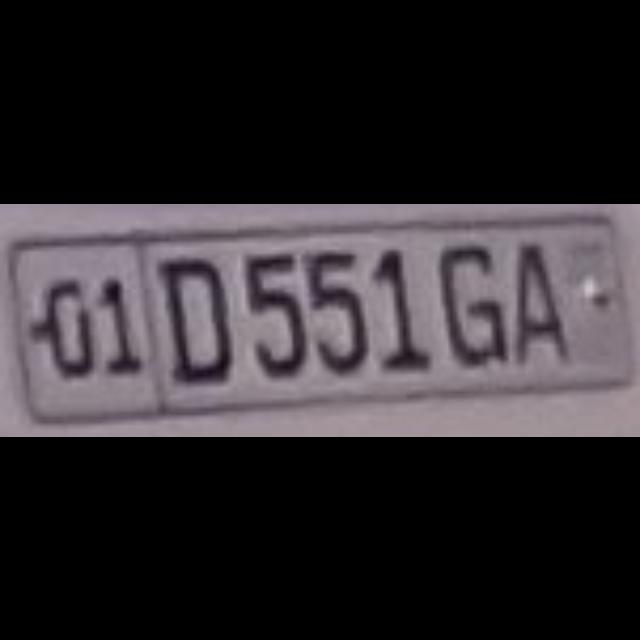0: (42, 276, 90, 372)
1: (368, 242, 419, 364), (98, 276, 136, 368)
5: (242, 245, 296, 372), (306, 246, 360, 364)
A: (508, 240, 564, 360)
D: (157, 254, 225, 376)
G: (436, 240, 500, 360)
